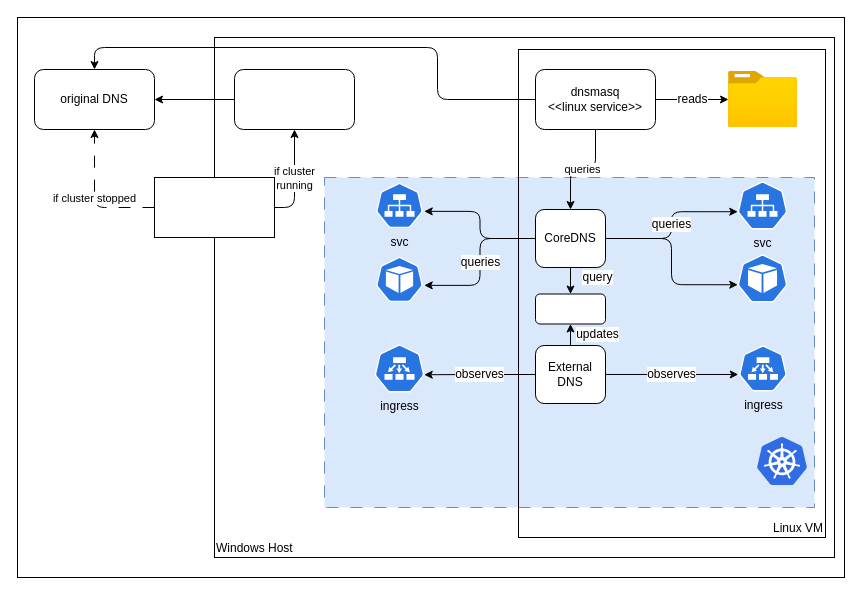
Image size: 862x595. Some labels were removed from this diagram. Here are the shapes that lost their labels. From the top down, the centre of each, then its label:
At point (294, 99): "dnsproxy <<windows service>>".
At point (762, 99): "/etc/hosts".
At point (214, 207): "Newtork Interface".
At point (570, 308): "etcd".
At point (782, 461): "k8s cluster".
